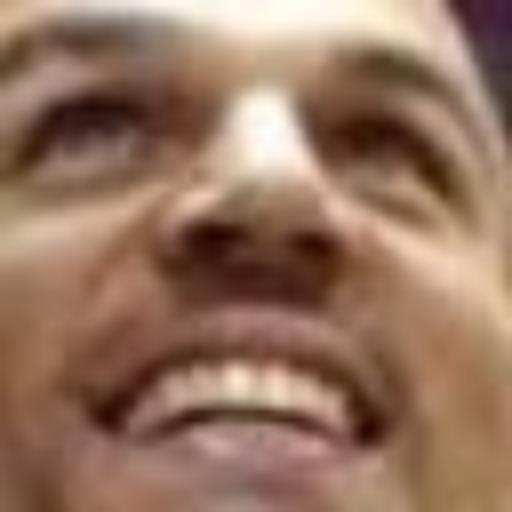left_eye: (339, 111, 445, 196)
left_lip_corner: (362, 381, 432, 462)
right_eye: (26, 101, 155, 174)
right_lip_corner: (76, 374, 150, 450)
